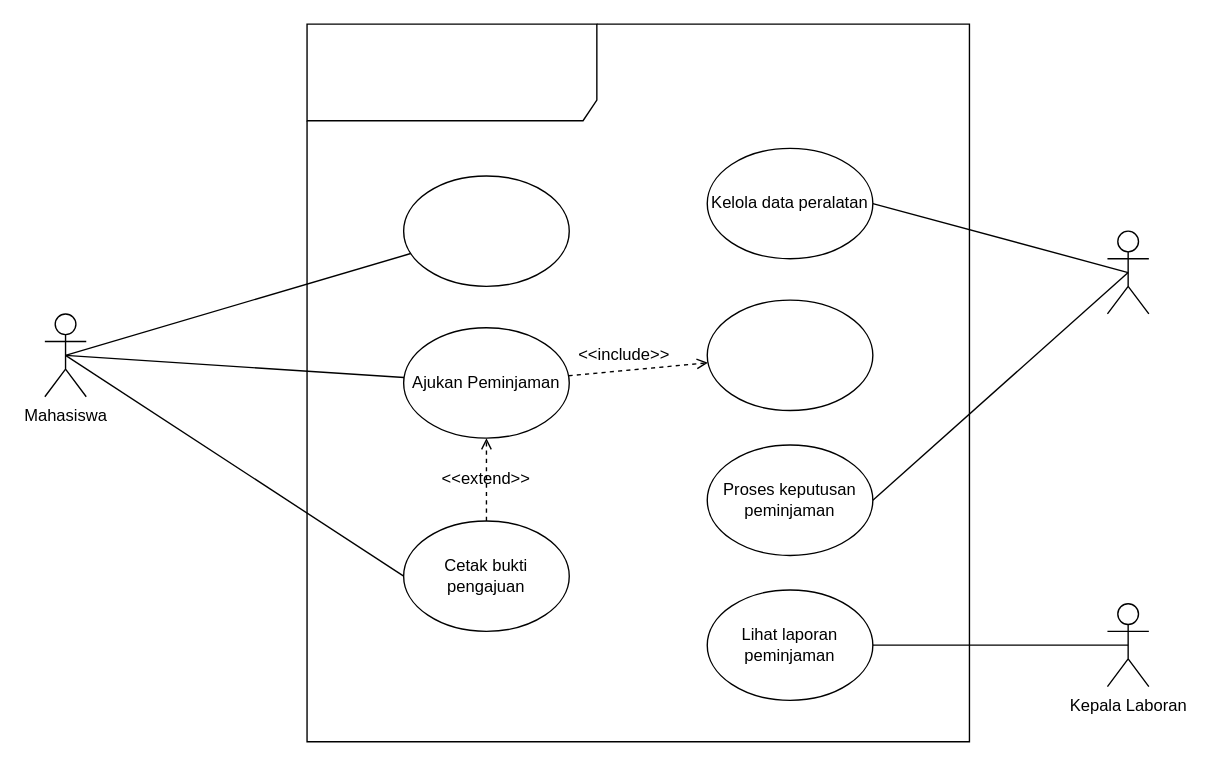
This 1214x766 diagram has some shape labels left out. Each missing label, with the box of its shape:
Lihat ketersediaann peralatan: (402, 175, 569, 286)
Periksa ketersediaan: (706, 299, 873, 411)
Petugas Laboran: (1106, 230, 1149, 314)
Sistem Informasi Peminjaman dan Pengembalian Peralatan Laboratorium Kampus: (306, 23, 969, 742)
